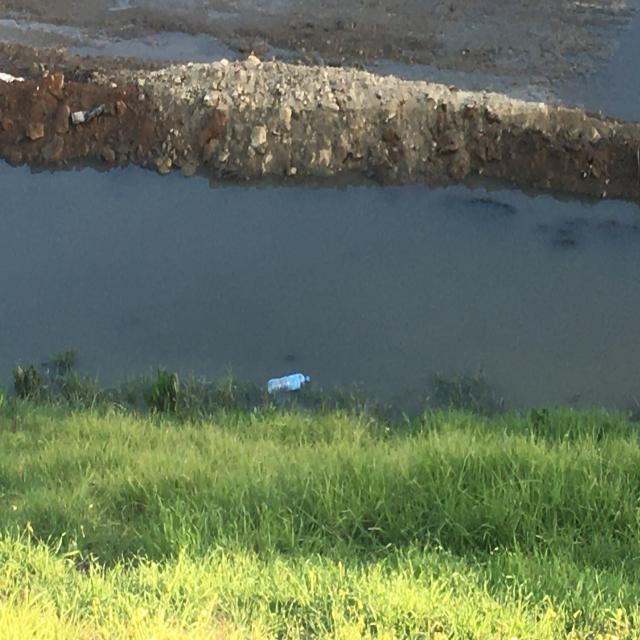Plastic bottle: (267, 370, 311, 400)
